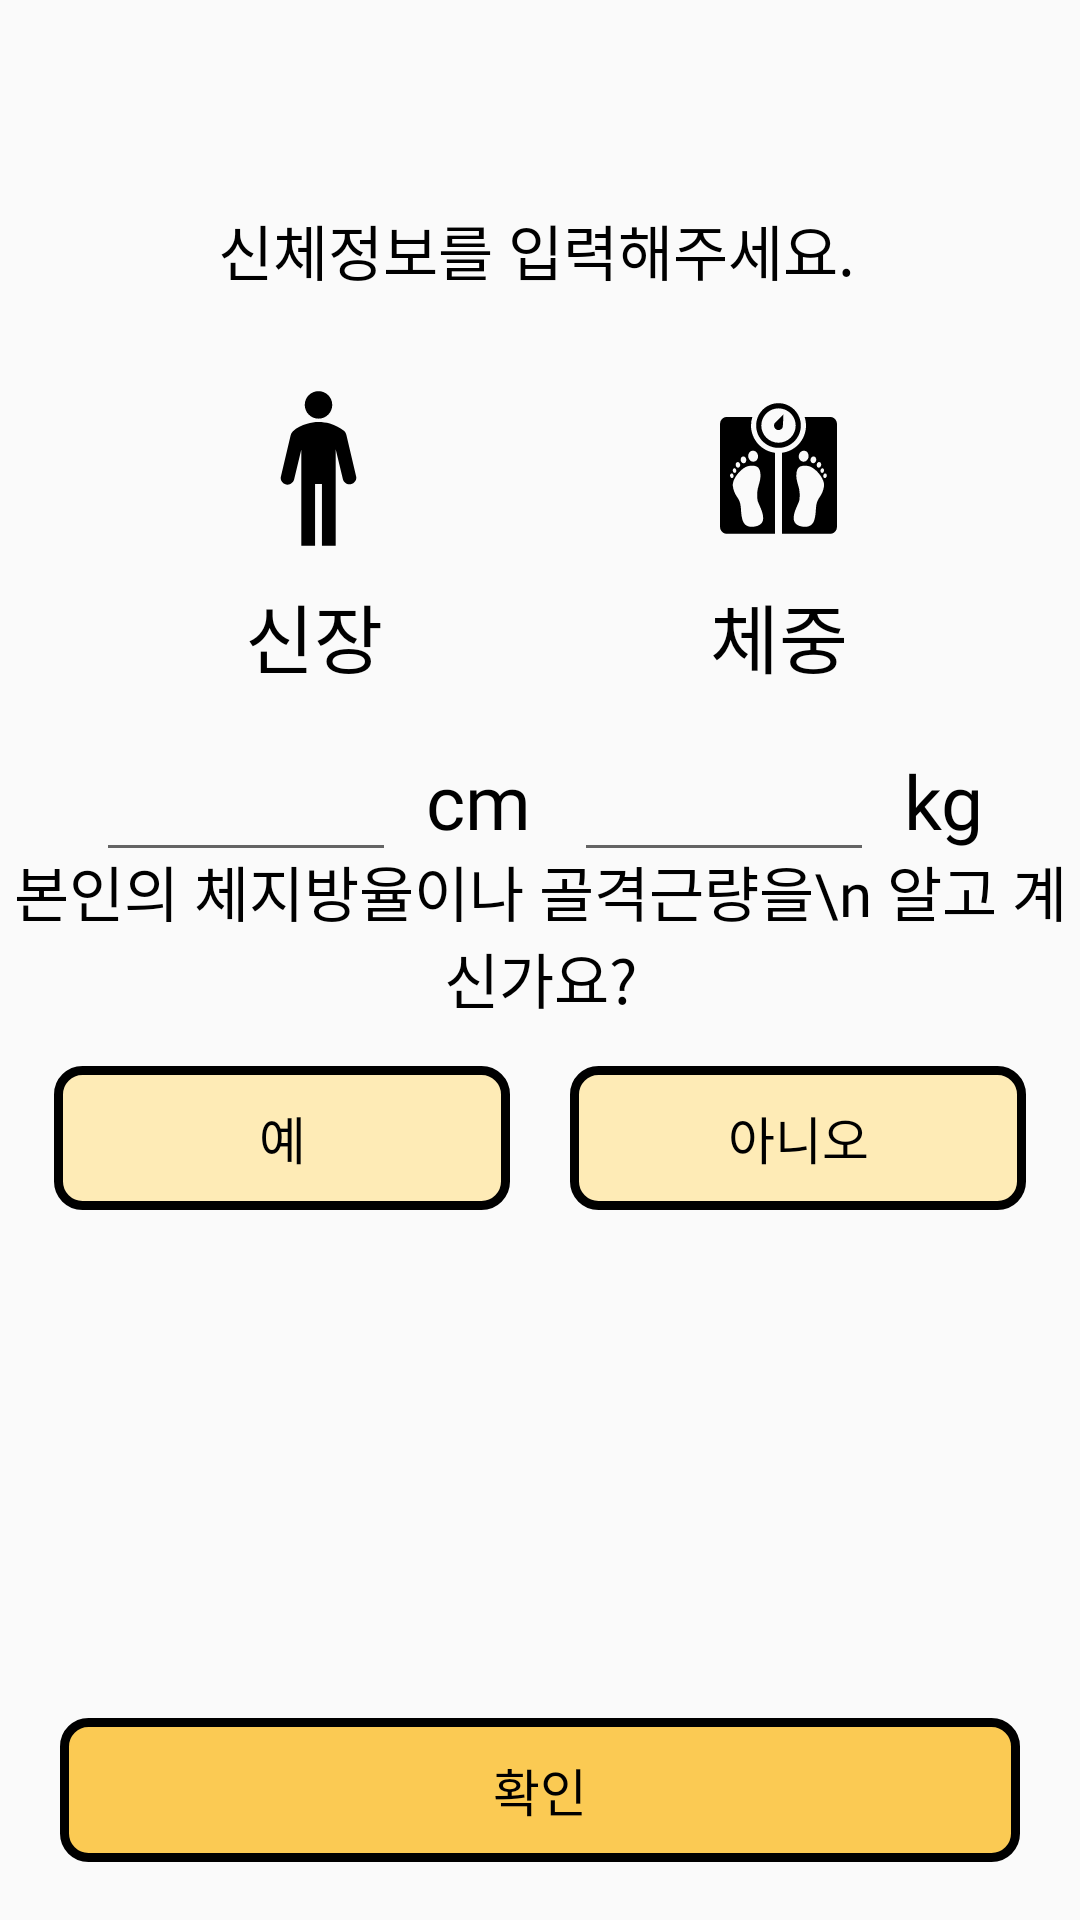

Named icons in this screenshot (1080px x 1920px) and their bounding boxes, (x1, y1, x2, y2):
height: (280, 391, 357, 546)
weight: (720, 403, 837, 534)
